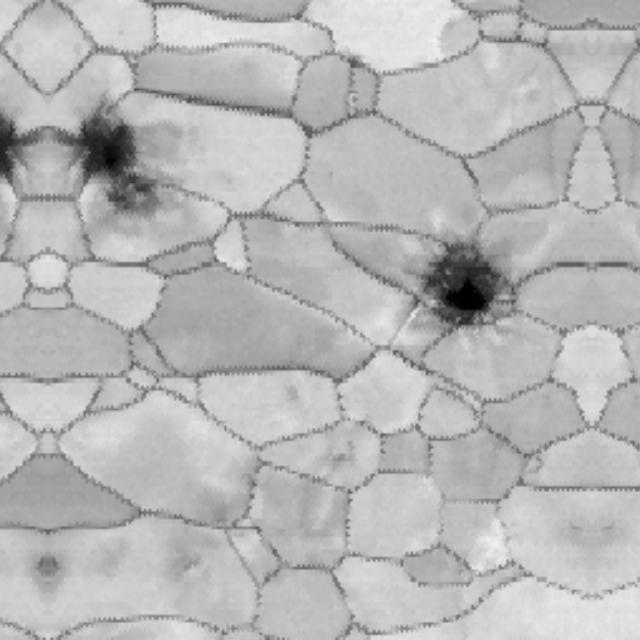good_void: (49, 103, 171, 218), (417, 233, 515, 338), (0, 103, 49, 200), (319, 429, 362, 473), (49, 548, 70, 594), (28, 548, 49, 594), (341, 50, 369, 80), (344, 89, 369, 109)
